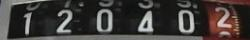digits: (131, 0, 157, 36), (20, 0, 41, 40), (55, 8, 73, 32), (177, 10, 195, 32), (214, 6, 232, 27), (96, 8, 112, 30)
